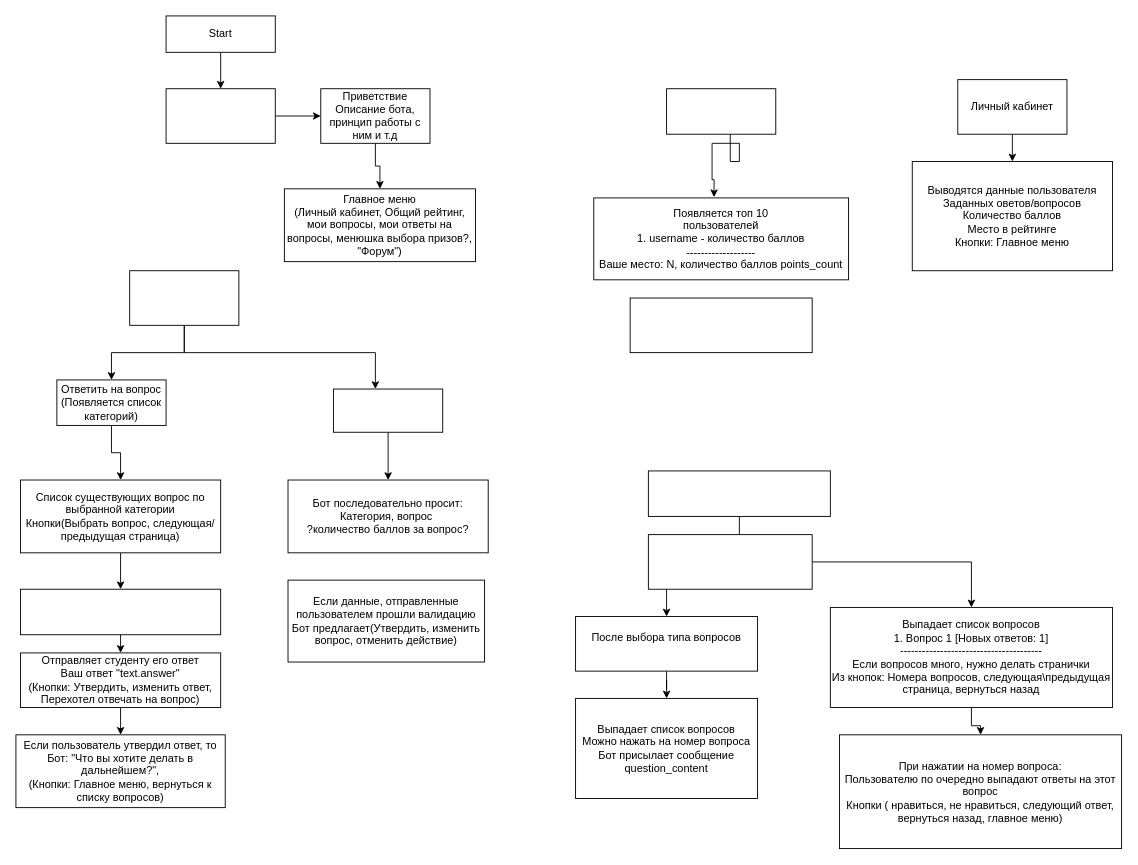
Some shapes in this 1138 by 865 pixel diagram are drawn without their labels. Each missing label, with the centre of its shape:
Бот запрашивает ответ (Проверяет ответ на нормативную лексику): point (120, 611)
Задать вопрос: point (388, 410)
Кнопки: Вернуться в главное меню: point (720, 325)
Мои вопросы: point (738, 493)
Общий рейтинг: point (721, 111)
Появляются кнопки: Активные/Архивные вопросы, новые ответы на вопросы: point (729, 561)
Регистрация ( Имя, Фамилия ) Автоматическое считывание: point (220, 115)
Форум: point (184, 297)
